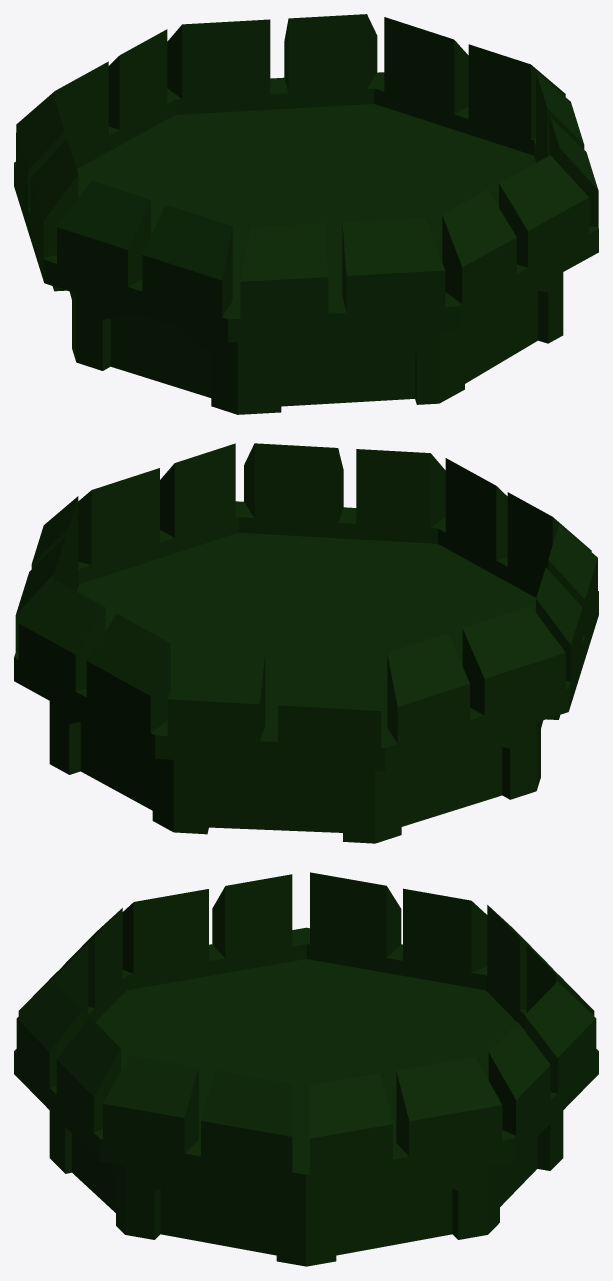
Rendered from round-tower-top-5.fbx.
3 views of the same model, one above another, from view 1: azimuth 30°, elevation 25°; view 2: azimuth 150°, elevation 25°; view 3: azimuth 270°, elevation 25° (orthographic). The views are drawn at different scales.
Parts seen in each view (by area): view 1: round-tower-top-5; view 2: round-tower-top-5; view 3: round-tower-top-5.
Part boxes in pixels (x1=…): round-tower-top-5: x1=14, y1=14, x2=598, y2=414; round-tower-top-5: x1=14, y1=443, x2=598, y2=843; round-tower-top-5: x1=14, y1=872, x2=598, y2=1266.
Bounding box in the file's own units: 7.2 × 2.43 × 7.2.
